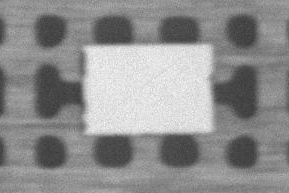DIE_CRACK: (157, 38, 273, 76)
